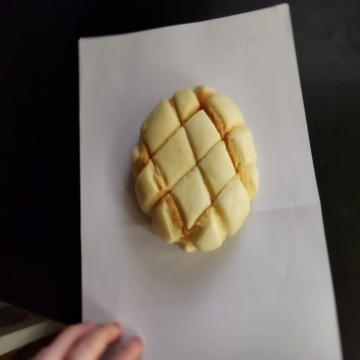melon_bread: (128, 86, 260, 254)
